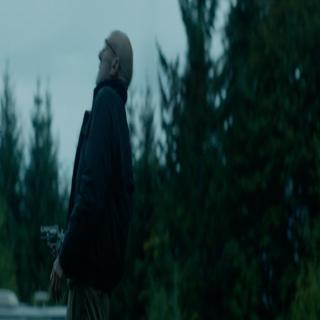gun: (38, 216, 68, 274)
